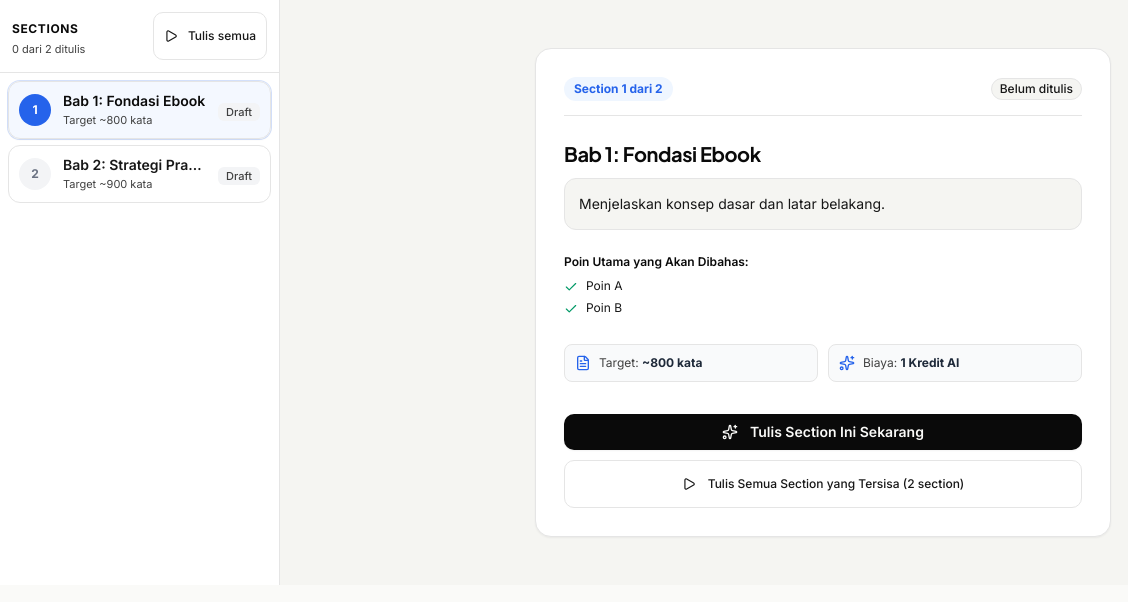
Test: SectionsPanel Stage 3 UI/UX › switches active outline section preview when clicking another section in the list
Expected: the text "Section 1 dari 2" is shown, [564,77,673,101]
Click the button "2 Bab 2: Strategi Praktis Target ~900 kata Draft": click(140, 174) [8,145,271,203]
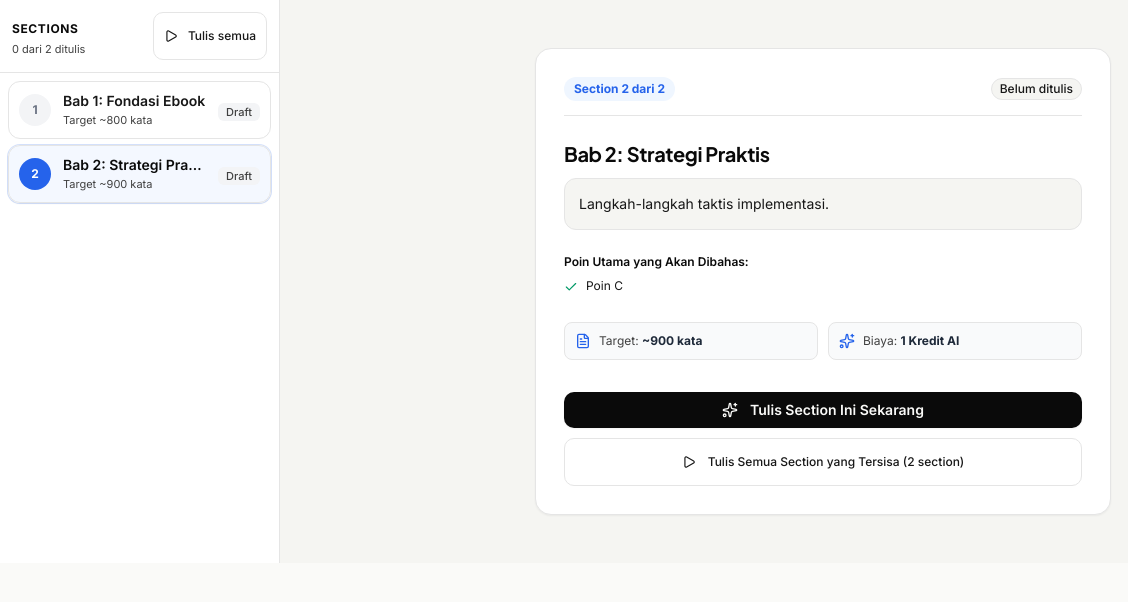
Expected: the text "Section 2 dari 2" is shown, [564,77,675,101]
Expected: the text "Langkah-langkah taktis implementasi." is shown, [564,178,1082,230]
Expected: the text "Poin C" is shown, [586,278,623,294]
